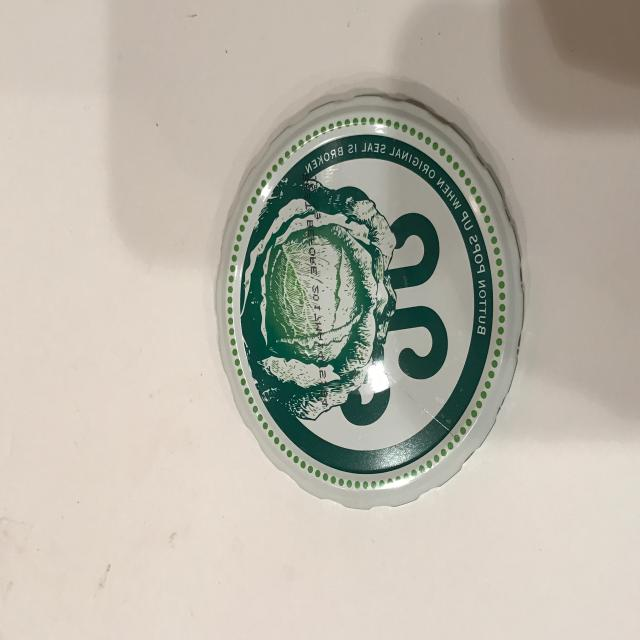metal: (214, 91, 525, 510)
